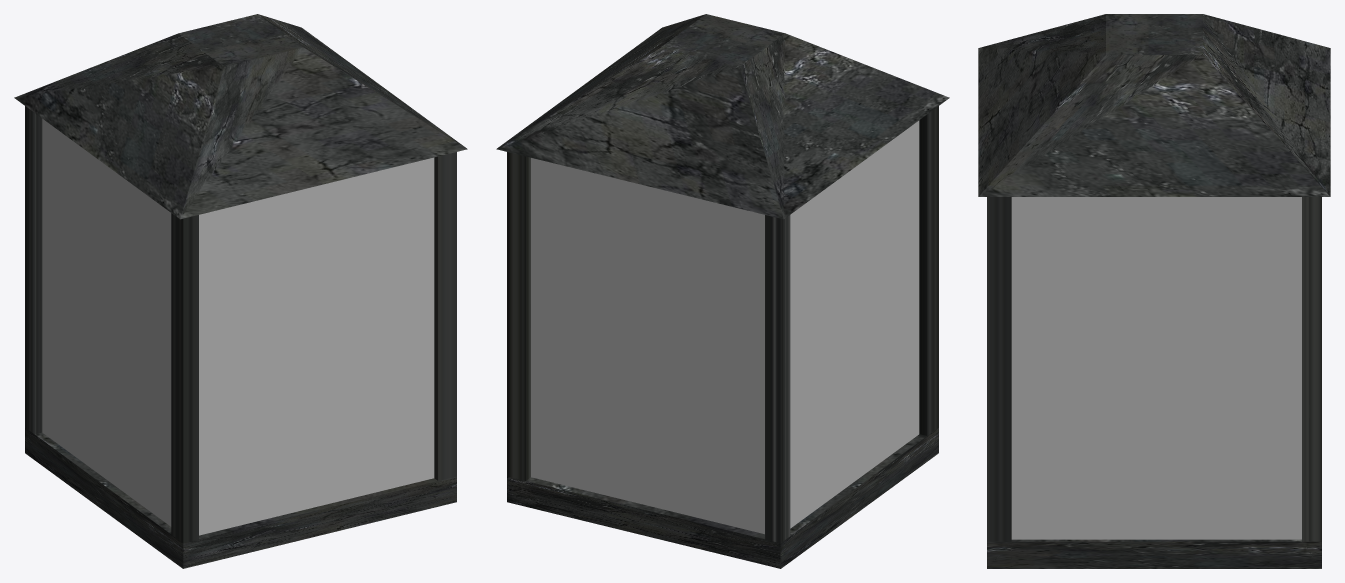
File: landrum.fbx
The picture shows the model from 3 angles, left to right: view 1: azimuth 30°, elevation 25°; view 2: azimuth 150°, elevation 25°; view 3: azimuth 270°, elevation 25°; orthographic projection. The views are drawn at different scales.
Parts seen in each view (by area): view 1: pasted__pCube3; view 2: pasted__pCube3; view 3: pasted__pCube3.
Part boxes in pixels (x1,y1,x2,y2): pasted__pCube3: (14,14,467,568); pasted__pCube3: (496,14,949,568); pasted__pCube3: (978,14,1330,568).
Size of the model in its own units: 3.79 by 5.5 by 3.79.
2 materials, 1 textured.
